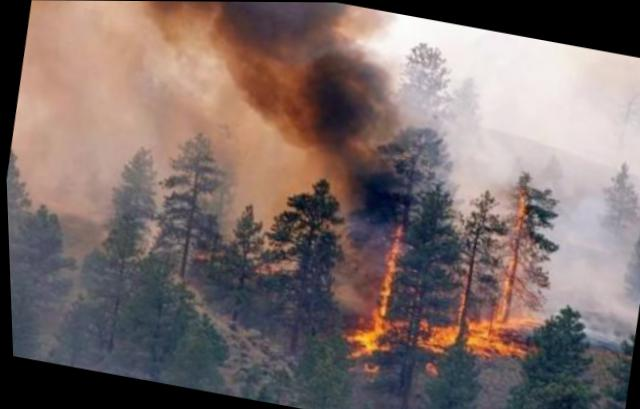fire: (333, 149, 558, 388)
